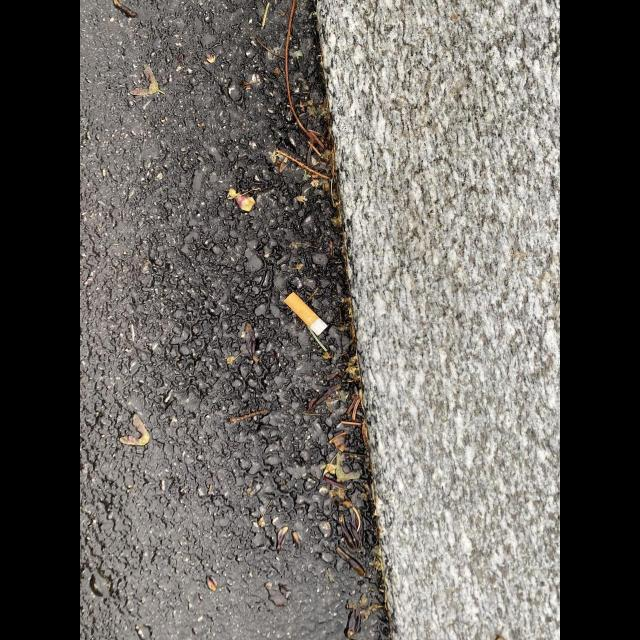cigarette: (284, 292, 328, 336)
